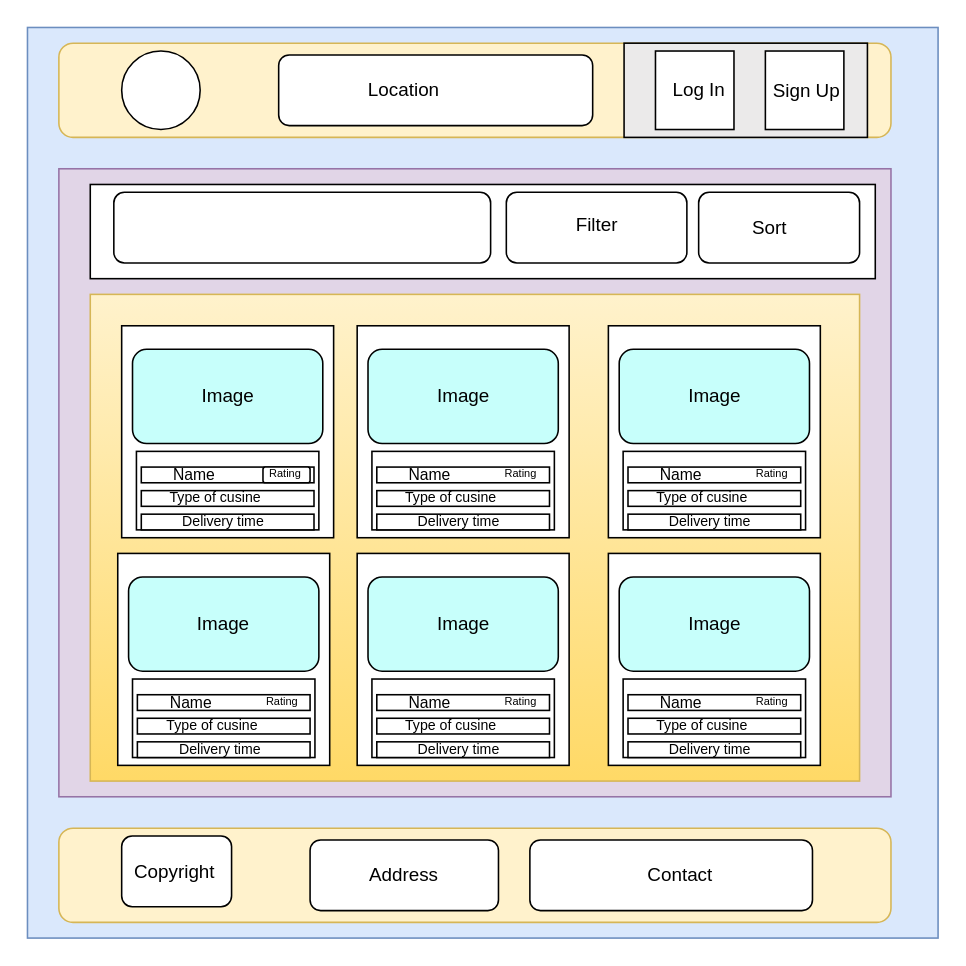
The diagram is 966 pixels wide and 966 high, and some of its shapes have lost their labels. Here are the shapes that lost their labels. From the top down, the box of each, then its label:
(120, 49, 200, 130): LOGO
(112, 191, 491, 263): Search Bar
